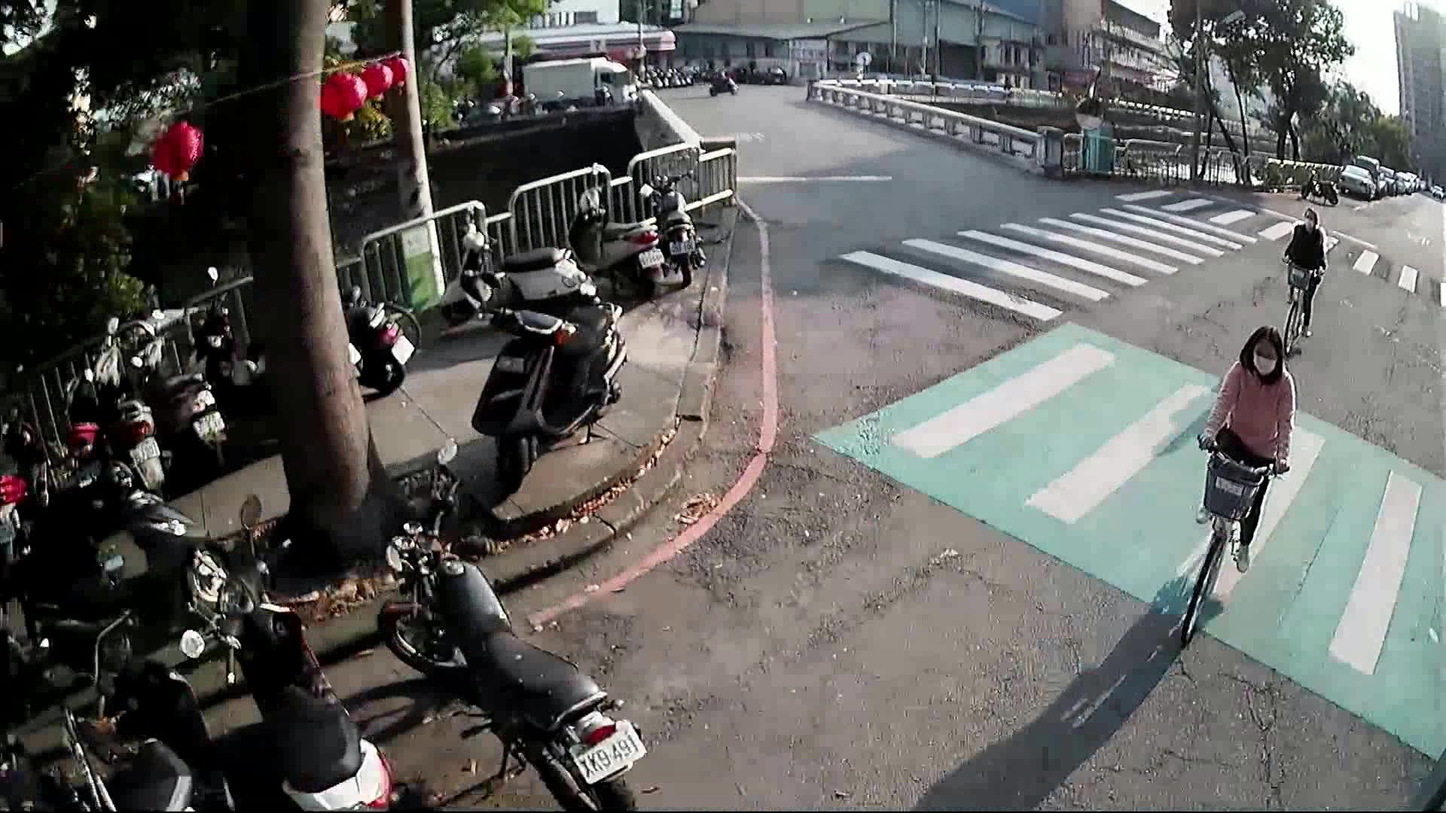person: (1192, 315, 1295, 573), (1277, 203, 1327, 335)
